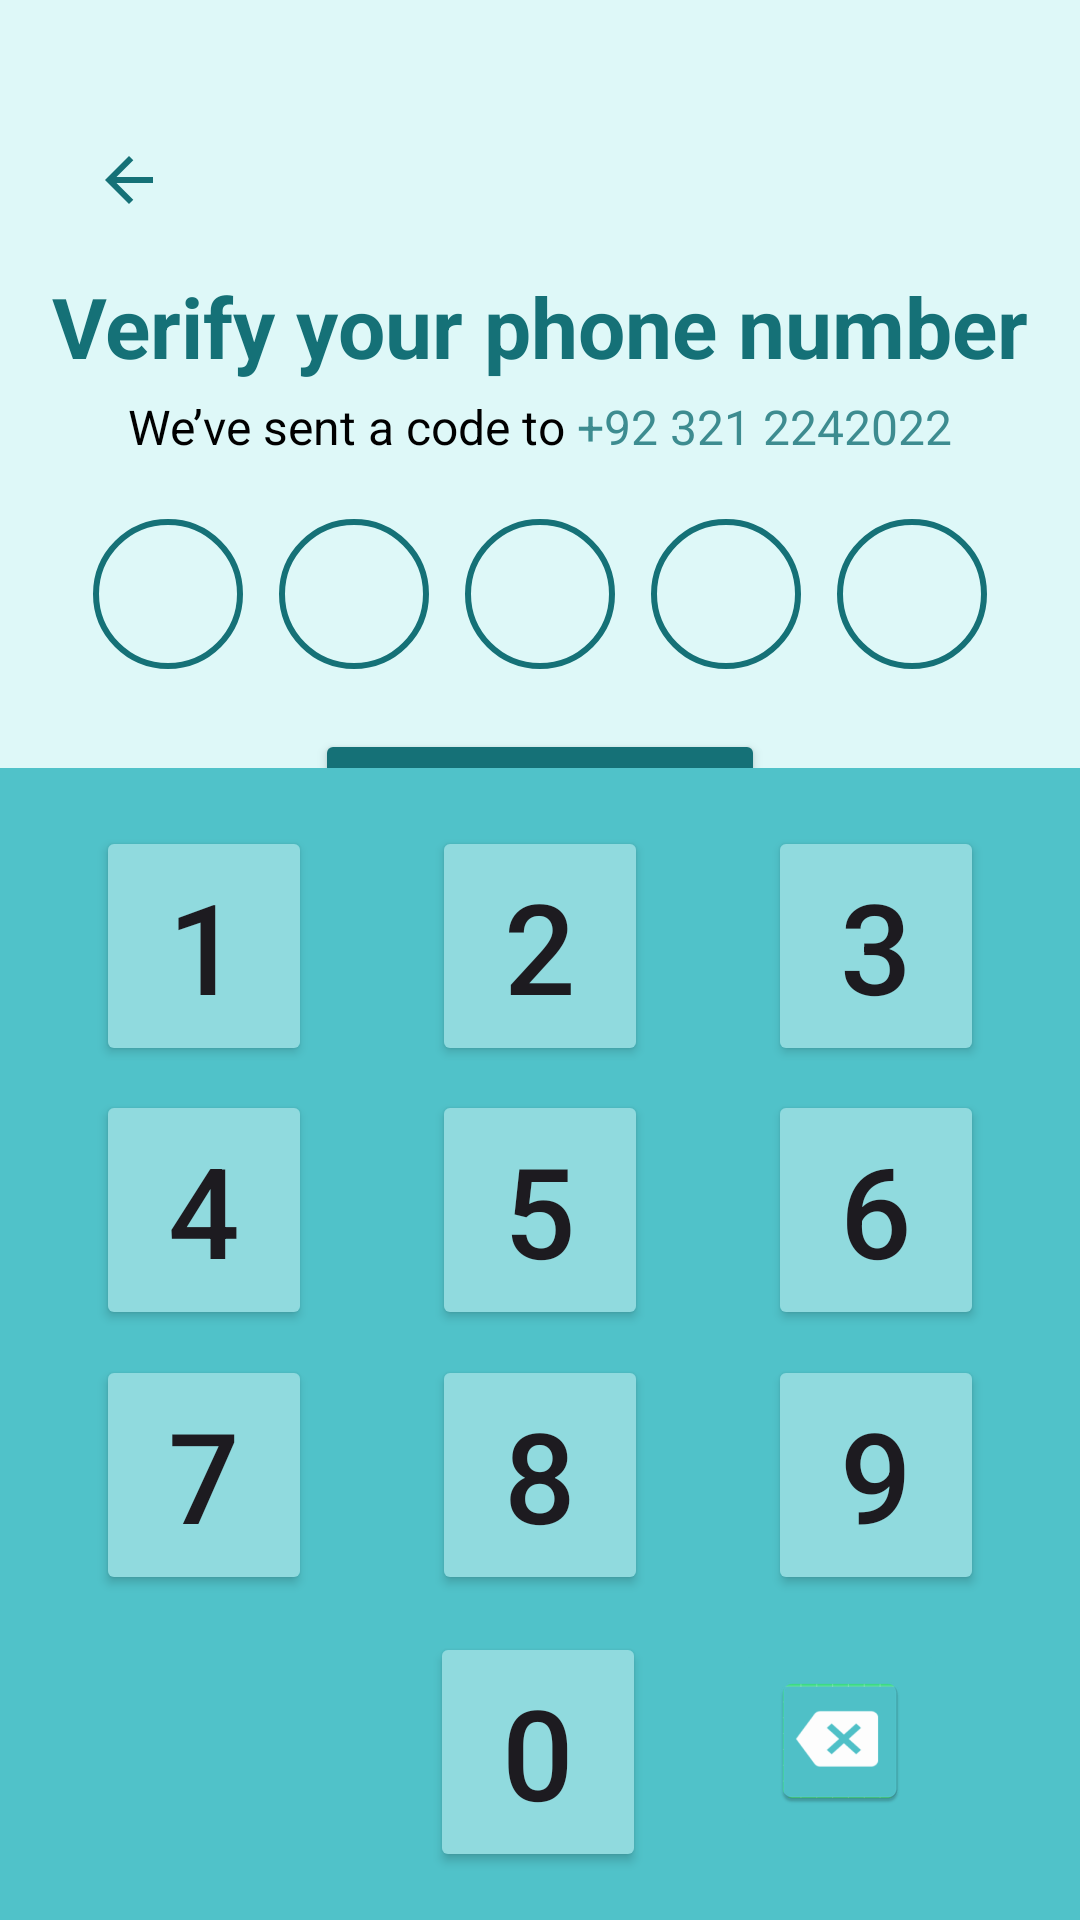

Point at icon controls on the screen. Image size 1080*1920, points as (x,y).
back arrow: (129,180)
dialer close: (840,1742)
